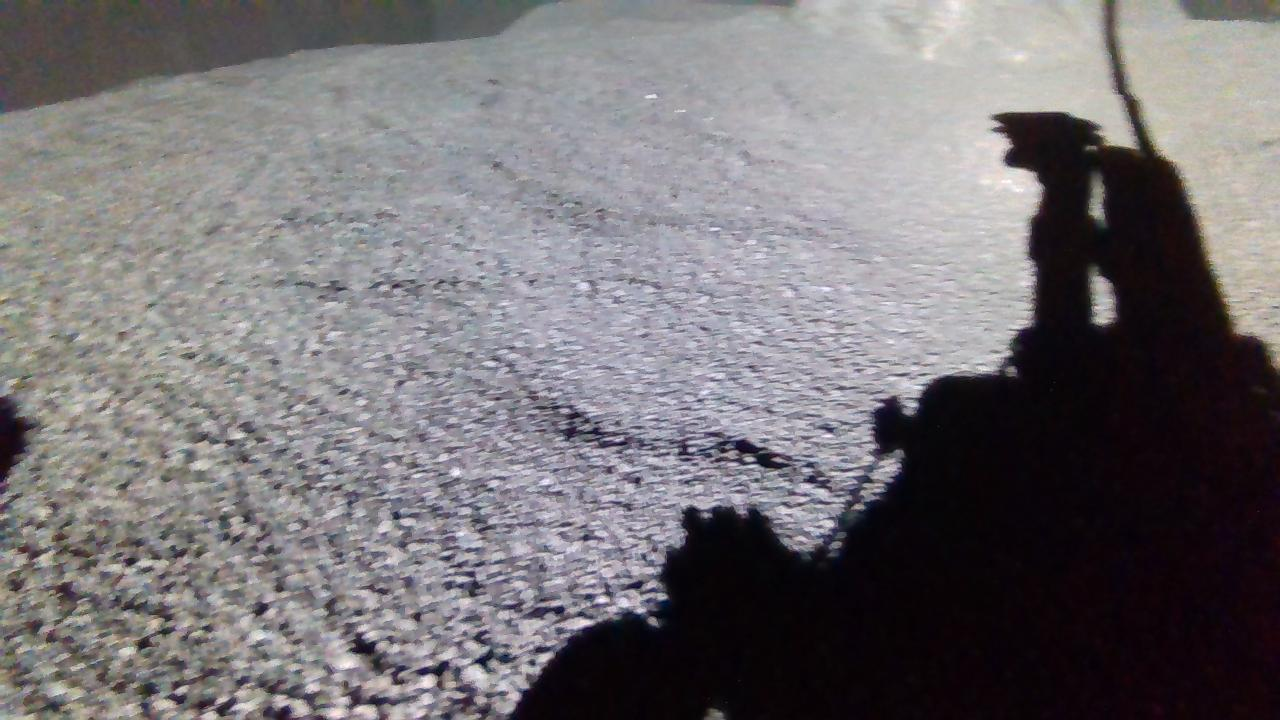rock: (794, 0, 1196, 72)
